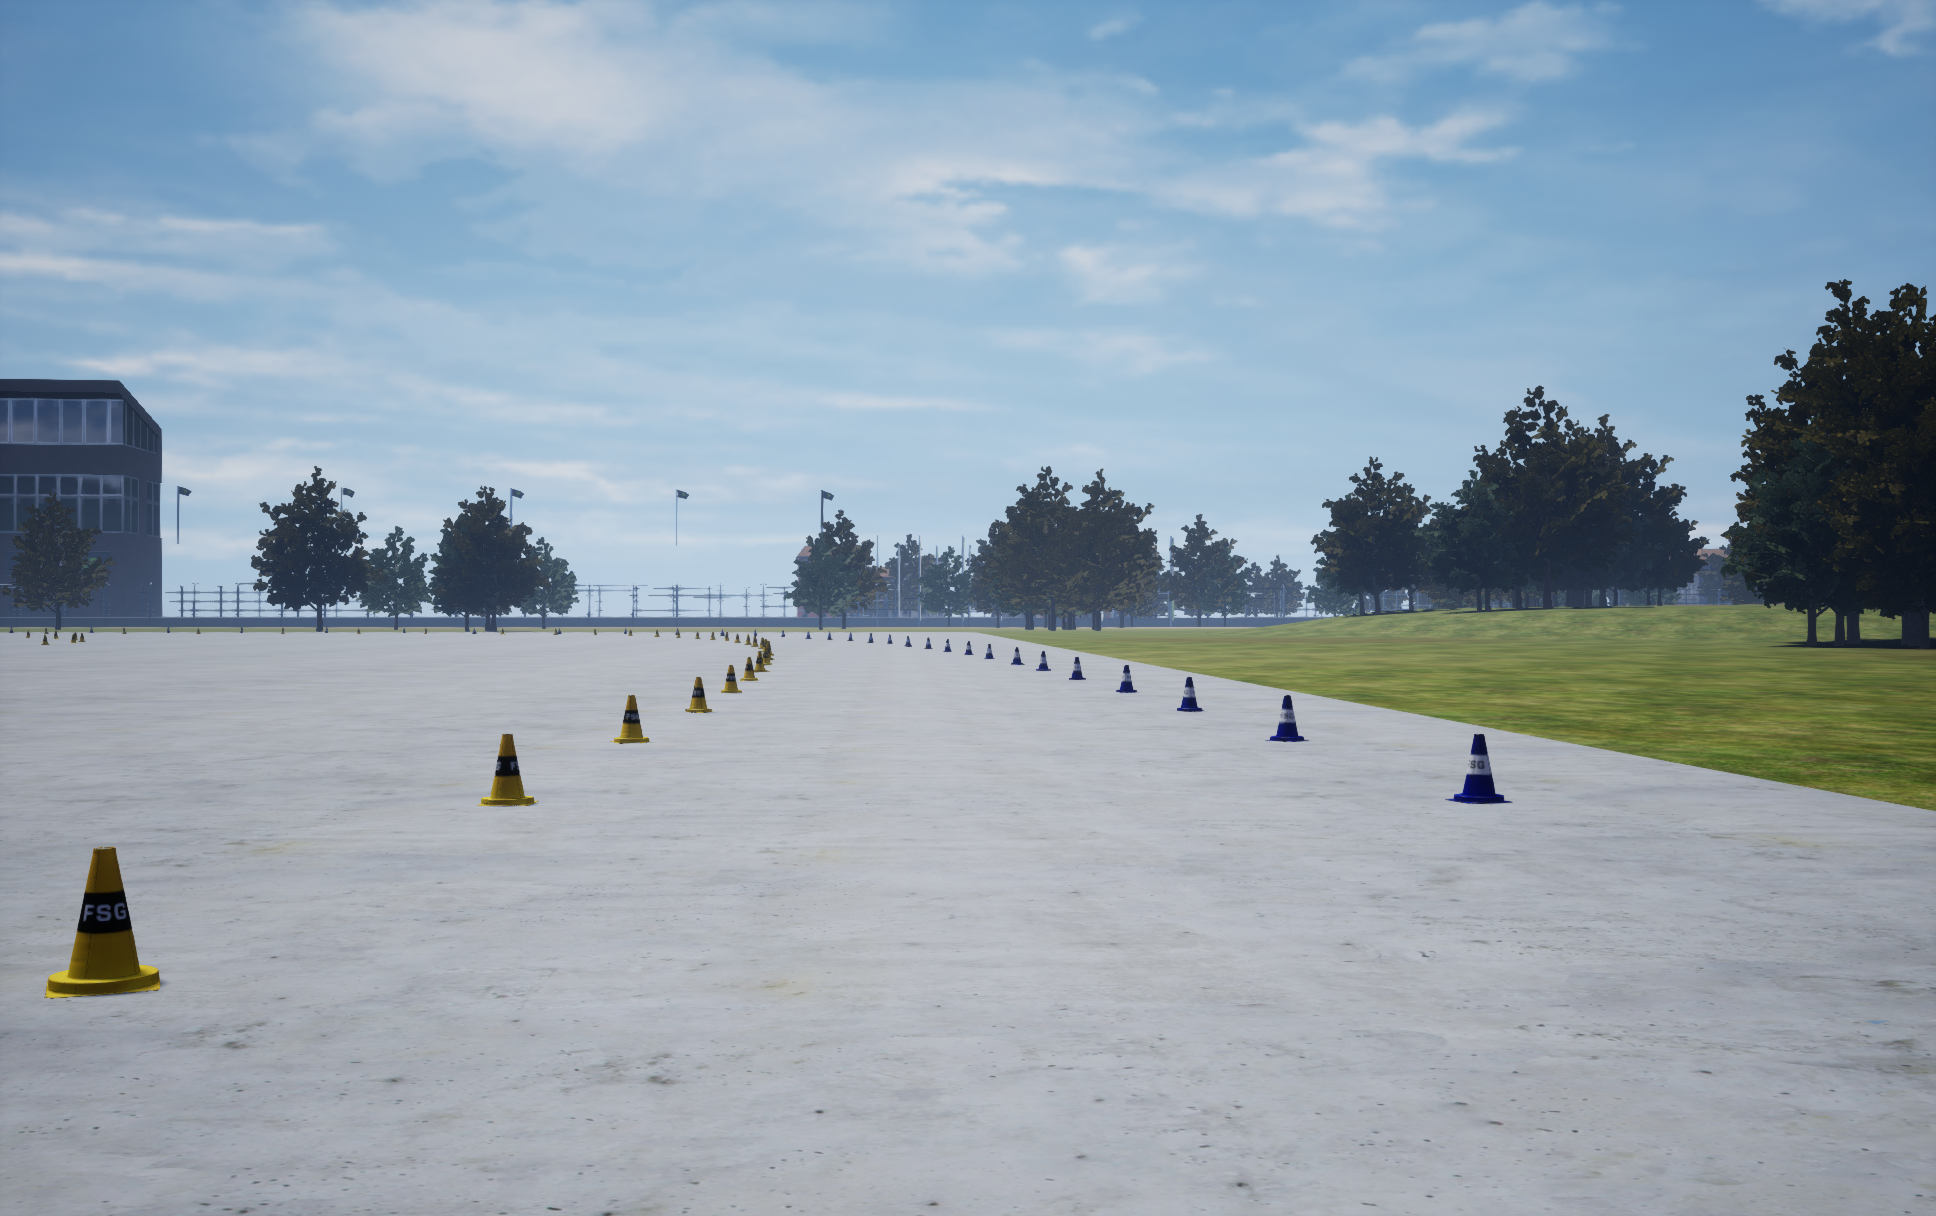blue: (43, 848, 160, 997), (476, 734, 538, 806), (609, 695, 651, 742), (685, 677, 712, 712), (721, 665, 741, 692), (740, 657, 756, 679), (754, 651, 769, 671)
yellow: (1446, 734, 1512, 803), (1265, 695, 1308, 741), (1177, 677, 1203, 712), (1116, 665, 1136, 692), (1069, 657, 1086, 679), (1037, 651, 1051, 670)
